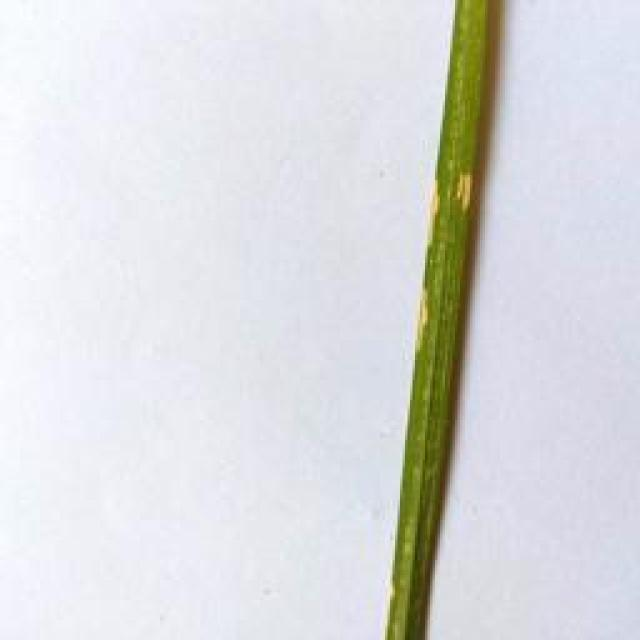Unhealthy: (455, 173, 476, 212), (415, 290, 429, 345), (430, 178, 442, 242)
